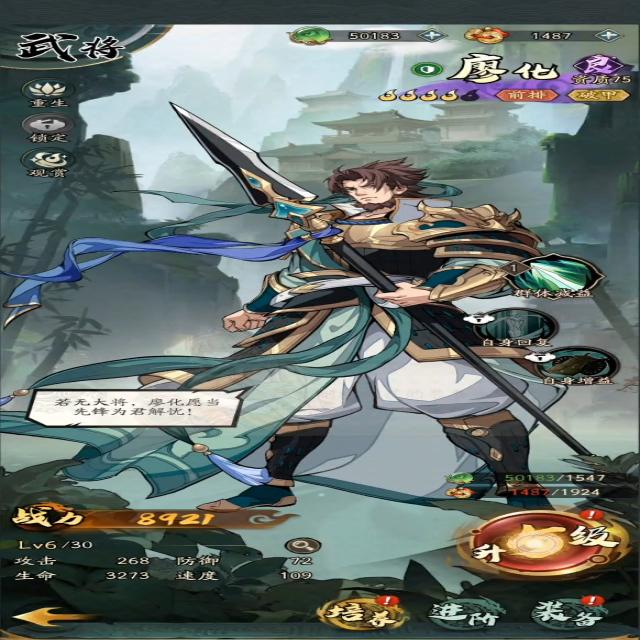hint-reddot: (368, 594, 404, 608), (574, 507, 604, 523), (578, 592, 608, 608)
operation-advanced: (424, 598, 513, 630)
operation-back: (7, 600, 100, 633)
operation-equipment: (533, 594, 610, 631)
operation-levelUp: (461, 506, 632, 580)
operation-train: (315, 592, 409, 630)
skill-multi1-off: (526, 347, 624, 388)
skill-multi2-off: (463, 306, 559, 347)
skill-multi3-on: (502, 252, 611, 301)
